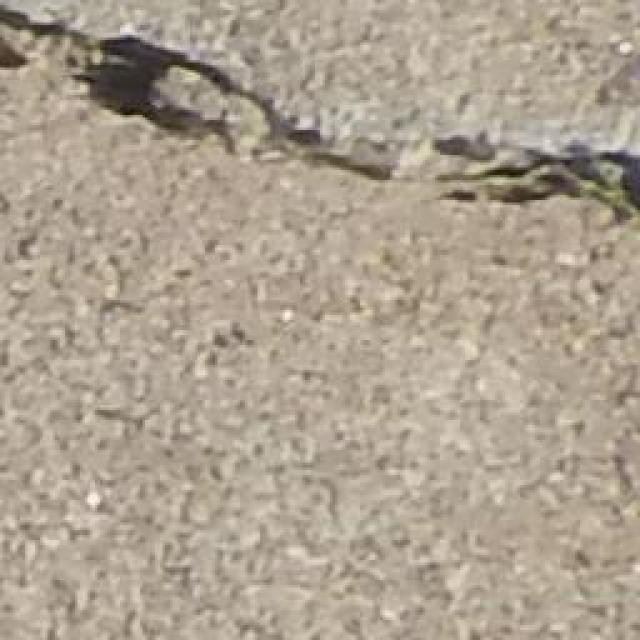concrete-crack: (0, 1, 640, 227)
